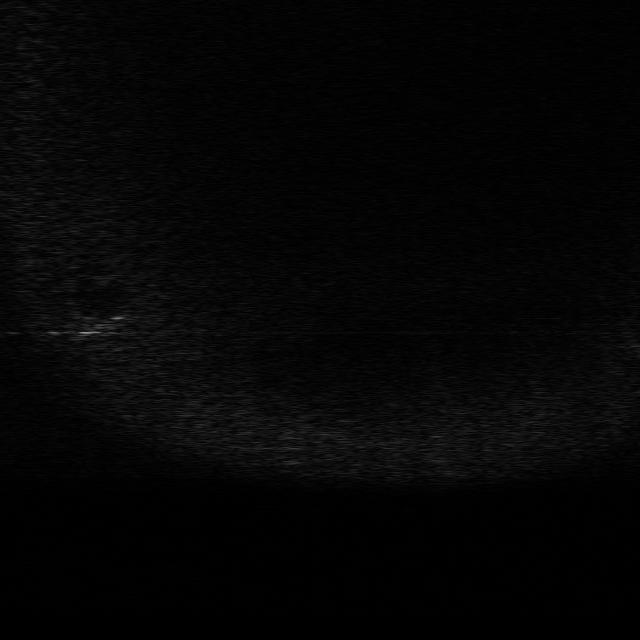plane: (61, 313, 129, 343)
